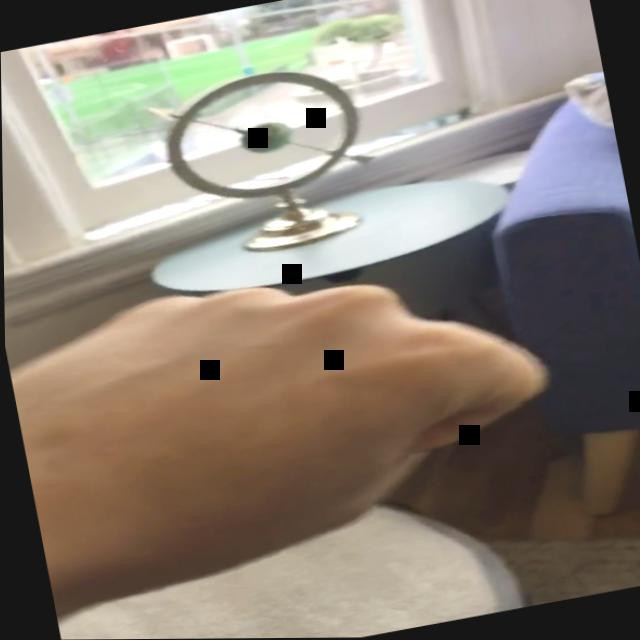Rock: (3, 230, 580, 614)
